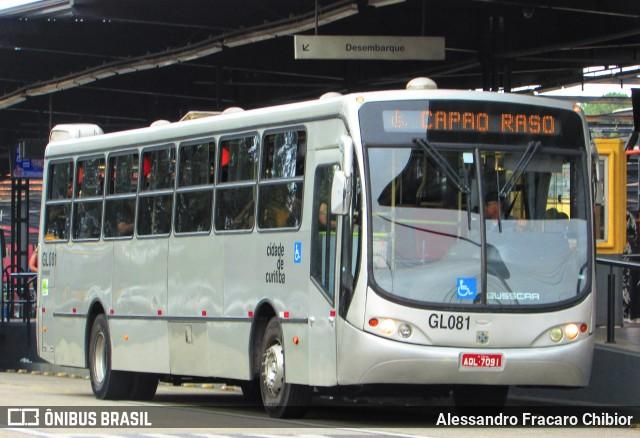CAPAO RASO: (415, 106, 557, 137)
